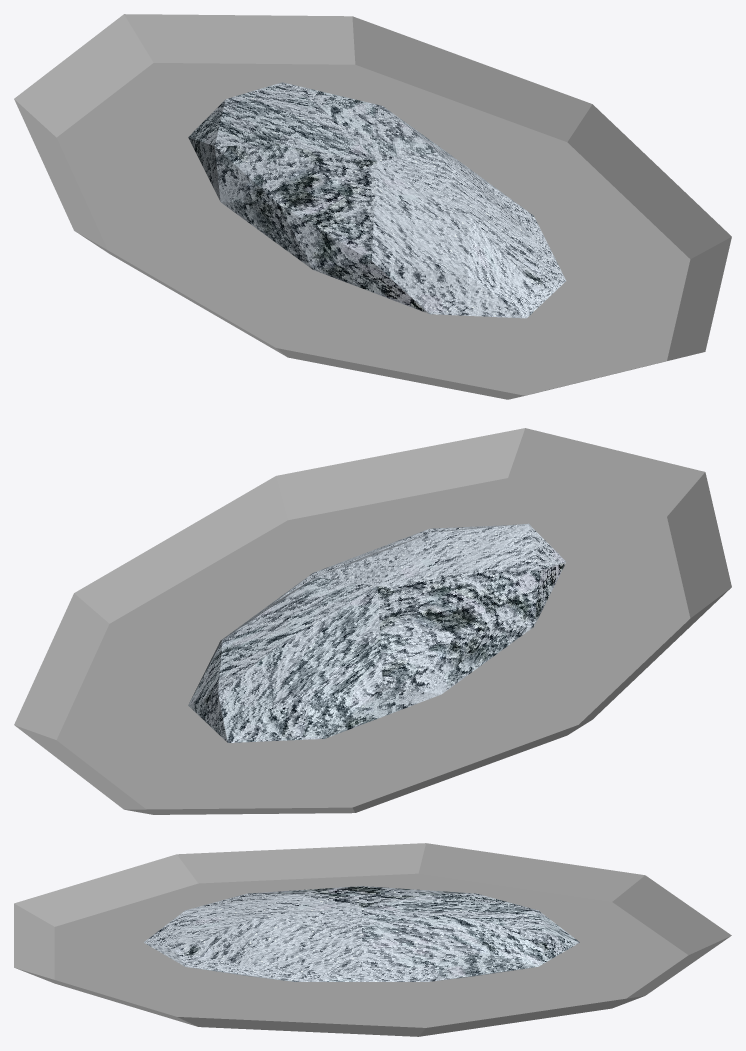
Rendered from dish_with_cocaine.glb.
3 renders of one model, top to bottom at view 1: azimuth 30°, elevation 25°; view 2: azimuth 150°, elevation 25°; view 3: azimuth 270°, elevation 25°, orthographic. The views are drawn at different scales.
Visible parts, largest first — view 1: dish, powder; view 2: dish, powder; view 3: dish, powder.
Part boxes in pixels (x1=…): dish: x1=14, y1=14, x2=731, y2=399; powder: x1=188, y1=82, x2=566, y2=318; dish: x1=14, y1=428, x2=731, y2=814; powder: x1=188, y1=523, x2=566, y2=742; dish: x1=14, y1=843, x2=731, y2=1036; powder: x1=144, y1=886, x2=579, y2=981.
Size of the model in its own units: 0.9798 by 0.1175 by 1.61.
2 materials, 1 textured.
